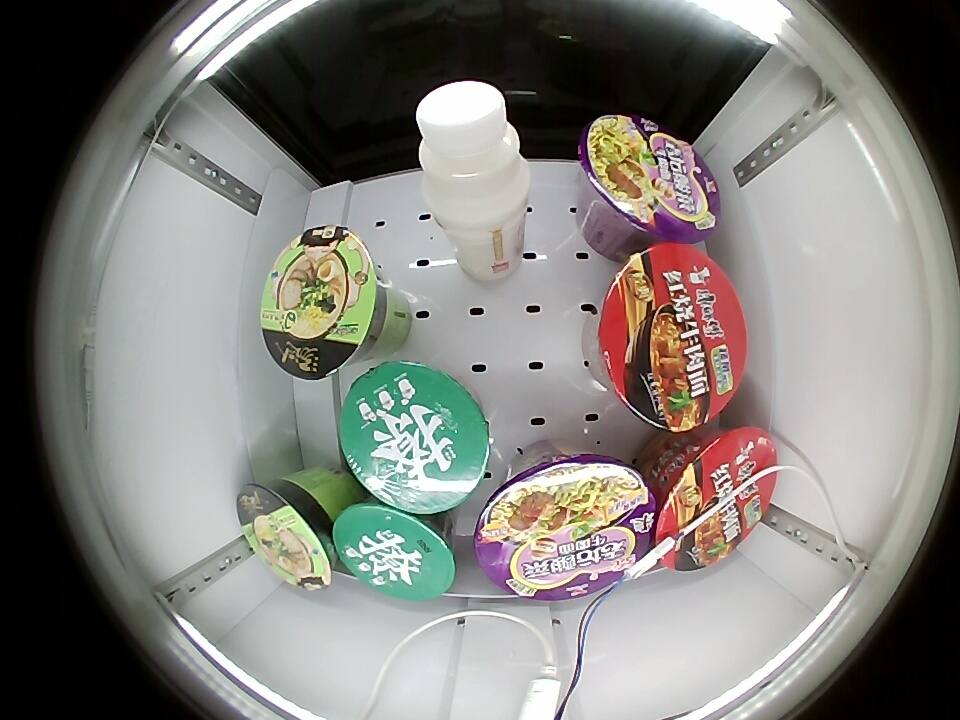hongsao: (592, 241, 765, 431), (657, 427, 787, 573)
luse: (340, 369, 493, 510), (330, 504, 459, 607)
suancai: (473, 445, 657, 606), (574, 99, 743, 245)
tangdaren: (249, 220, 390, 382), (228, 480, 334, 599)
yinliao: (400, 64, 532, 206)
